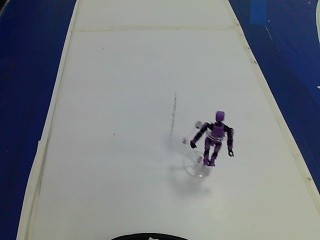pedestrian: (187, 108, 234, 168)
